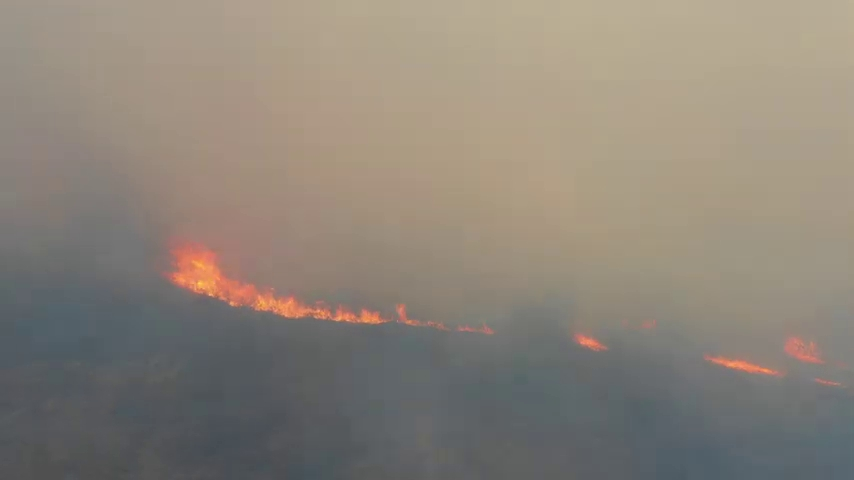forest_fire: (167, 244, 493, 333), (706, 354, 784, 375), (784, 337, 824, 364), (573, 333, 608, 350)
